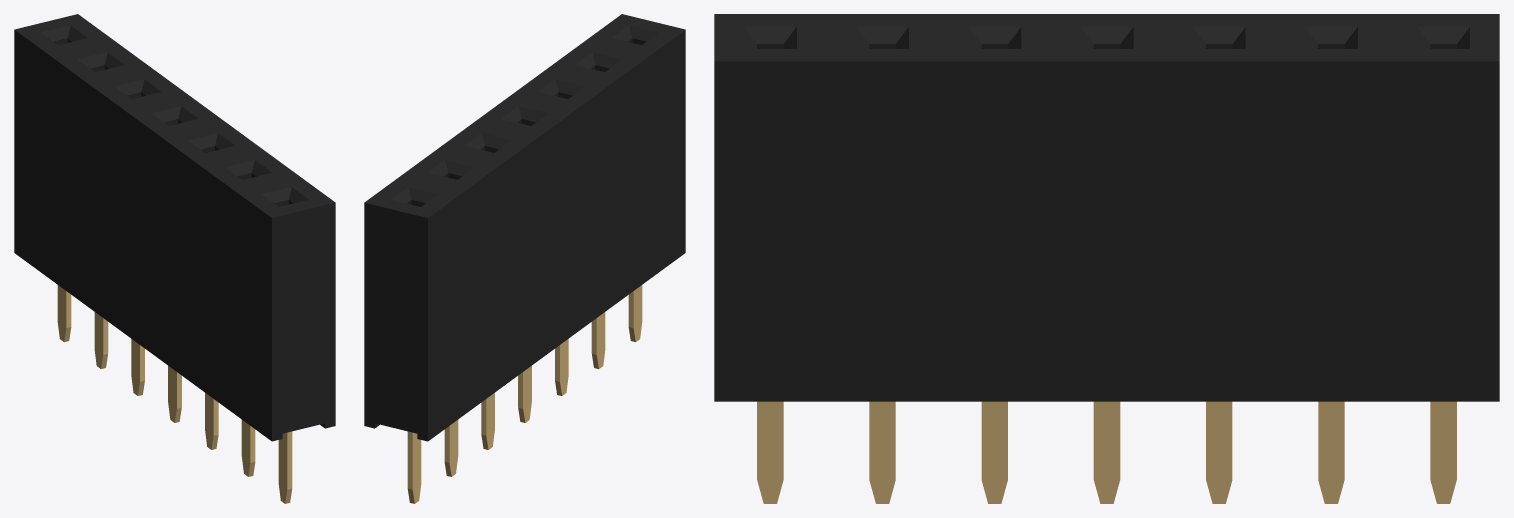
Rendered from kc-pinsocket_1x07_p2.54mm_vertical.glb.
The picture shows the model from 3 angles, left to right: view 1: azimuth 30°, elevation 25°; view 2: azimuth 150°, elevation 25°; view 3: azimuth 270°, elevation 25°; orthographic projection. The views are drawn at different scales.
Parts seen in each view (by area): view 1: 0_0_0_0, 0.75_0.5_0.25_0.9; view 2: 0_0_0_0, 0.75_0.5_0.25_0.9; view 3: 0_0_0_0, 0.75_0.5_0.25_0.9.
Boxes of the visible parts, left/top/right/bottom form: 0_0_0_0: left=14, top=14, right=335, bottom=441; 0.75_0.5_0.25_0.9: left=57, top=285, right=292, bottom=503; 0_0_0_0: left=364, top=14, right=685, bottom=441; 0.75_0.5_0.25_0.9: left=407, top=285, right=642, bottom=503; 0_0_0_0: left=714, top=14, right=1499, bottom=401; 0.75_0.5_0.25_0.9: left=757, top=401, right=1456, bottom=503.
Bounding box in the file's own units: 0.2539 × 1.16 × 1.78.
